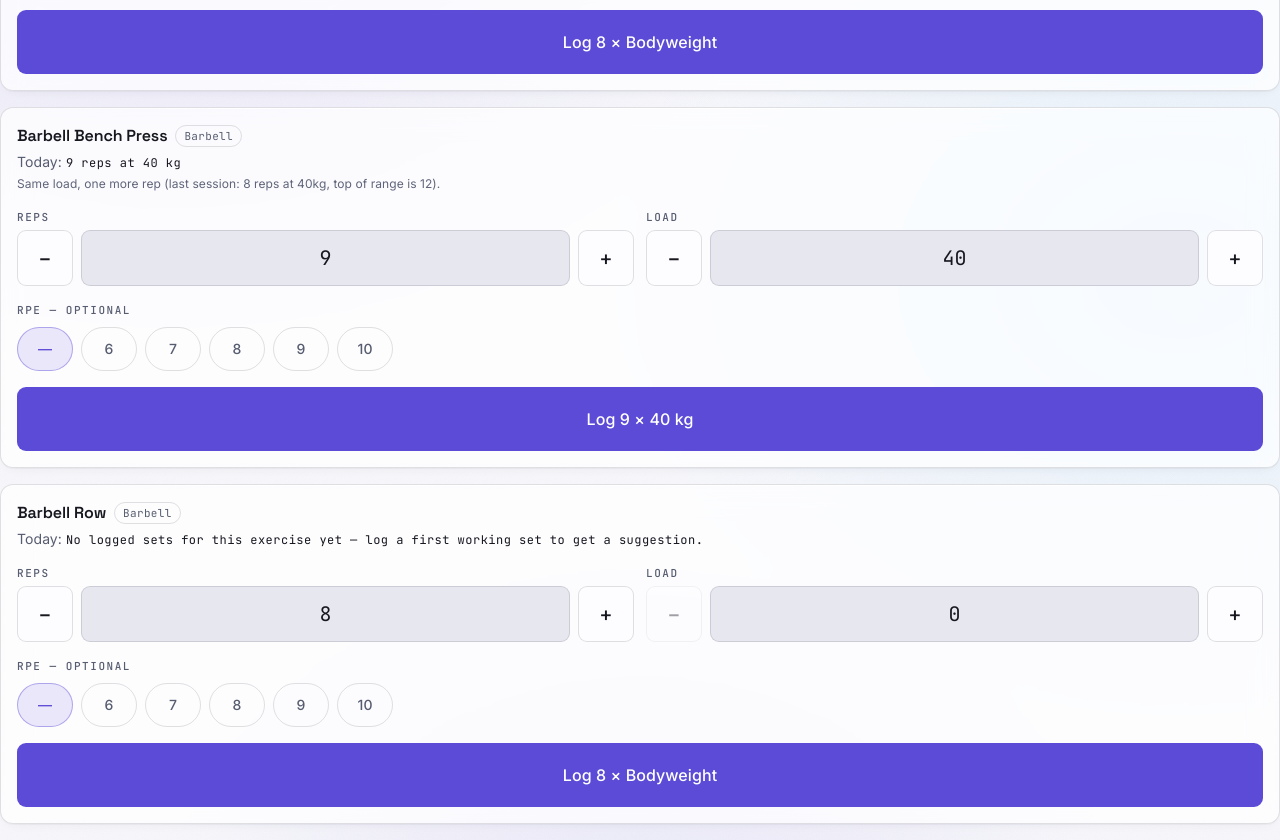
SessionBoard — logging a set › logs the suggested set in one press and shows it back immediately
(page scrolled)
Click the button "Log 9 × 40 kg". click: (640, 419)
box: [17,387,1263,451]
(page scrolled)
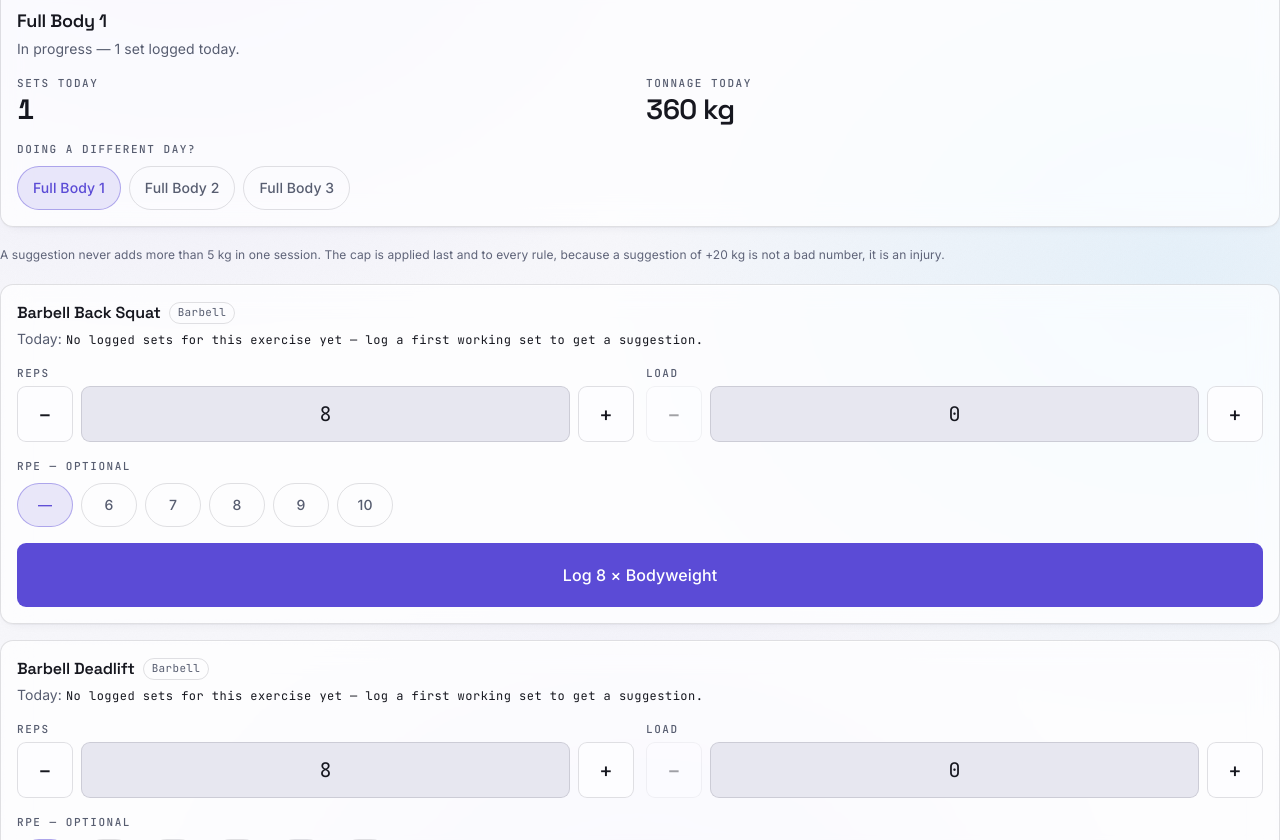
Expected: the element with test id "train-sets-today" shows "1", [17,91,34,127]
